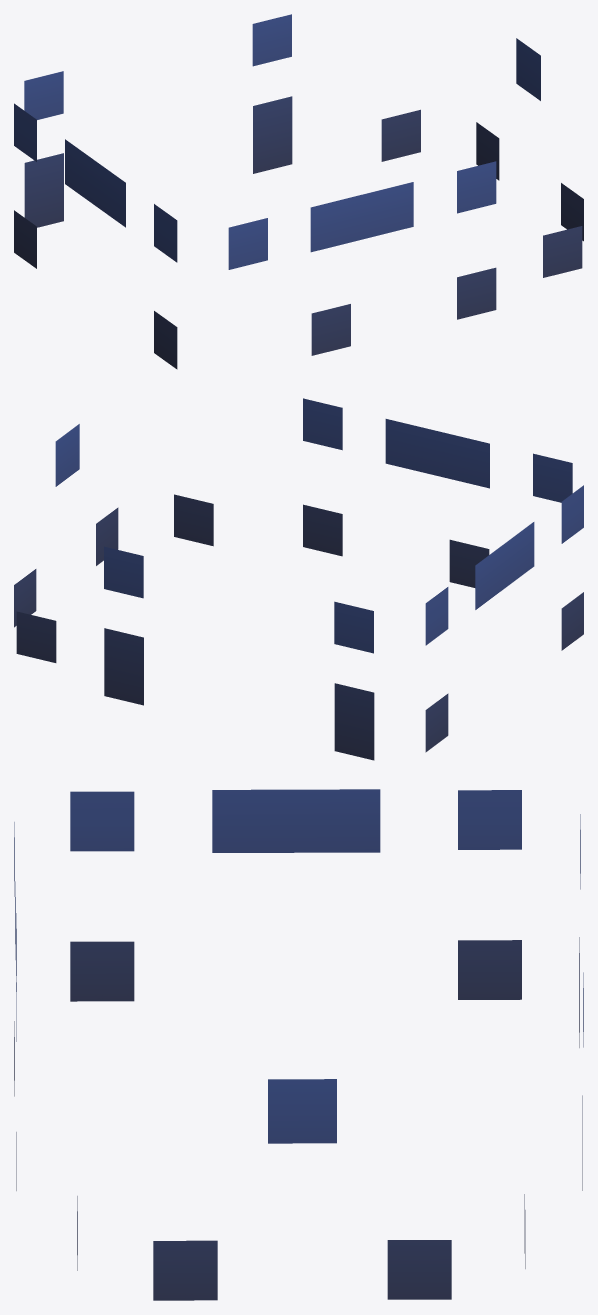
File: windowRefl.126.fbx
3 views of the same model, one above another, from view 1: azimuth 30°, elevation 25°; view 2: azimuth 150°, elevation 25°; view 3: azimuth 270°, elevation 25° (orthographic). The views are drawn at different scales.
Visible parts, largest first — view 1: windowRefl.126; view 2: windowRefl.126; view 3: windowRefl.126.
Boxes of the visible parts, <box> form: windowRefl.126: <box>14,14,583,369</box>; windowRefl.126: <box>14,398,583,760</box>; windowRefl.126: <box>14,789,583,1300</box>.
Bounding box in the file's own units: 1100 × 1374 × 470.
